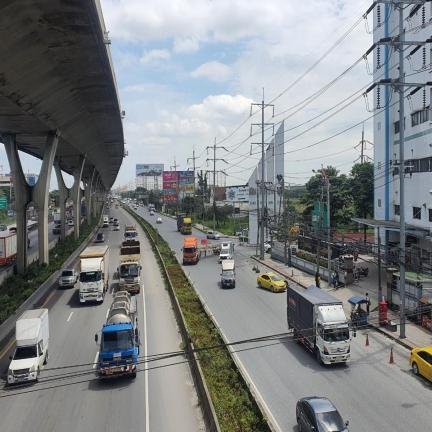car: (296, 396, 349, 432), (206, 231, 220, 239), (95, 233, 104, 242), (68, 219, 74, 226), (113, 223, 119, 230)
pickup: (59, 268, 78, 287)
taxi: (257, 273, 286, 292)
truck: (287, 284, 350, 364), (98, 291, 139, 377), (7, 309, 49, 384), (80, 245, 109, 302), (117, 242, 142, 293), (221, 260, 235, 287), (219, 241, 233, 262), (124, 225, 138, 241), (103, 215, 108, 226)
truck trailer: (181, 237, 220, 264), (181, 217, 192, 234), (177, 213, 186, 231)
